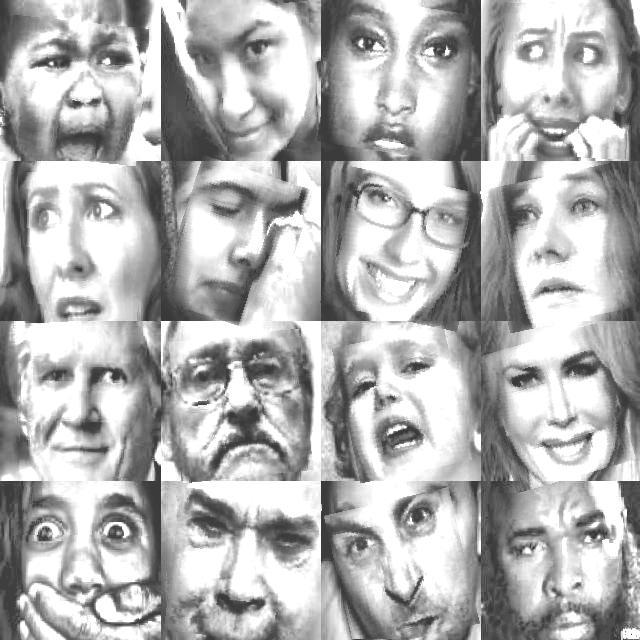angry: (2, 19, 146, 163), (172, 332, 310, 480), (338, 330, 466, 478)
fear: (168, 490, 317, 640), (497, 4, 632, 158), (14, 486, 149, 640), (20, 169, 132, 322)
happy: (326, 172, 479, 326), (486, 330, 628, 486), (175, 4, 317, 156), (331, 493, 472, 640), (20, 332, 146, 477)
neutral: (322, 0, 471, 156), (493, 493, 626, 640)
sad: (487, 167, 640, 326), (167, 162, 304, 328)
